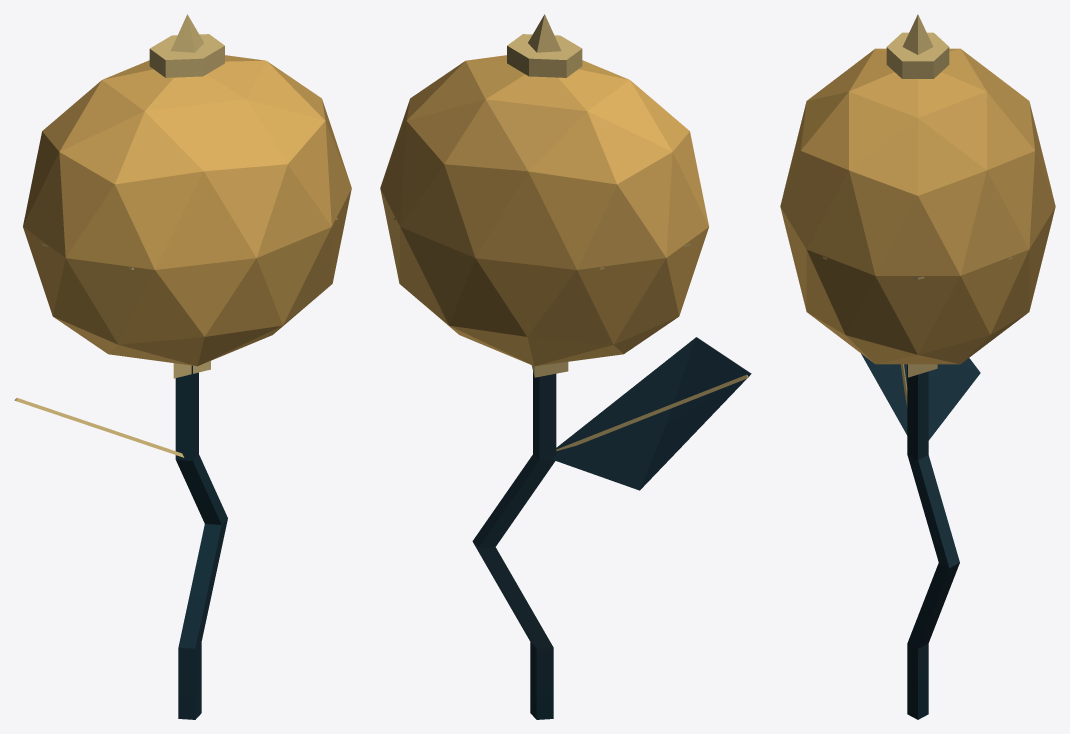
The model's file is firefly-lamp.glb.
The picture shows the model from 3 angles, left to right: view 1: azimuth 30°, elevation 25°; view 2: azimuth 150°, elevation 25°; view 3: azimuth 270°, elevation 25°; orthographic projection.
Parts seen in each view (by area): view 1: pulse_mesh, root_mesh; view 2: pulse_mesh, root_mesh; view 3: pulse_mesh, root_mesh.
Part boxes in pixels (x1,y1,x2,y2): pulse_mesh: (23,14,351,378); root_mesh: (14,365,227,719); pulse_mesh: (380,14,708,377); root_mesh: (472,337,751,719); pulse_mesh: (780,14,1055,377); root_mesh: (861,353,980,719).
Size of the model in its own units: 0.7 by 1.4 by 0.5.
